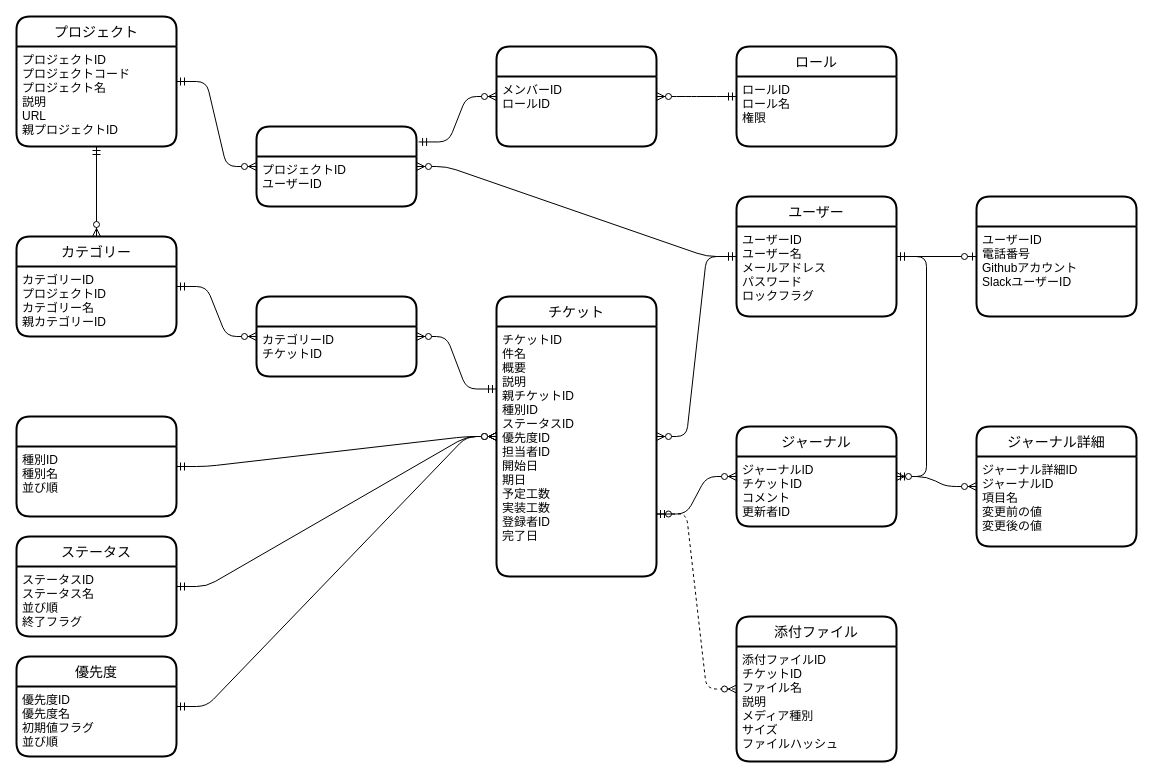
This 1153x778 diagram has some shape labels left out. The shapes that lost their labels are listed below. From the top down, each one's box as (x1, y1, x2, y2) in pixels, then its label:
(495, 45, 657, 147): メンバーロール
(255, 125, 417, 207): メンバー
(975, 195, 1137, 317): プロフィール
(255, 295, 417, 377): カテゴリー⇔チケット
(15, 415, 177, 517): 種別
